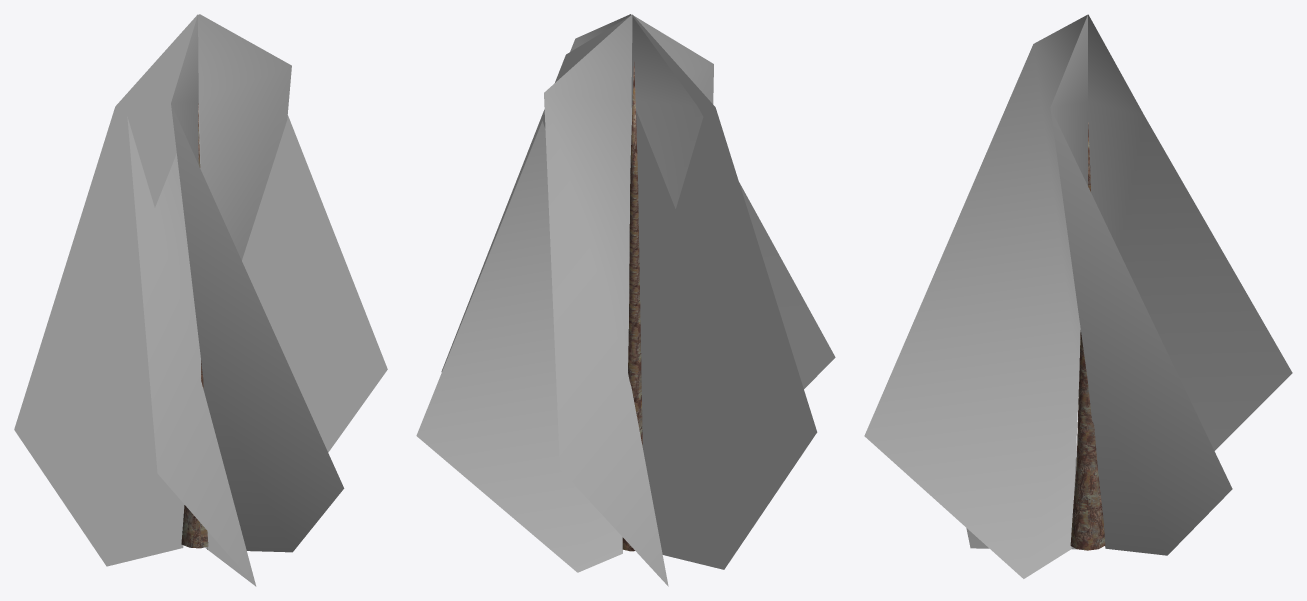
Rendered from Fol_SprucePlateD.FBX.
3 views of the same model, side by side, from view 1: azimuth 30°, elevation 25°; view 2: azimuth 150°, elevation 25°; view 3: azimuth 270°, elevation 25° (orthographic).
Visible parts, largest first — view 1: Spruce_Plate_4, Trunk; view 2: Spruce_Plate_4, Trunk; view 3: Spruce_Plate_4, Trunk.
Boxes of the visible parts, x1,y1,x2,y2 form: Spruce_Plate_4: (14,14,387,586); Trunk: (181,103,208,548); Spruce_Plate_4: (416,14,835,586); Trunk: (622,62,642,551); Spruce_Plate_4: (864,14,1292,578); Trunk: (1070,122,1105,550).
Bounding box in the file's own units: 571 × 774 × 563.
